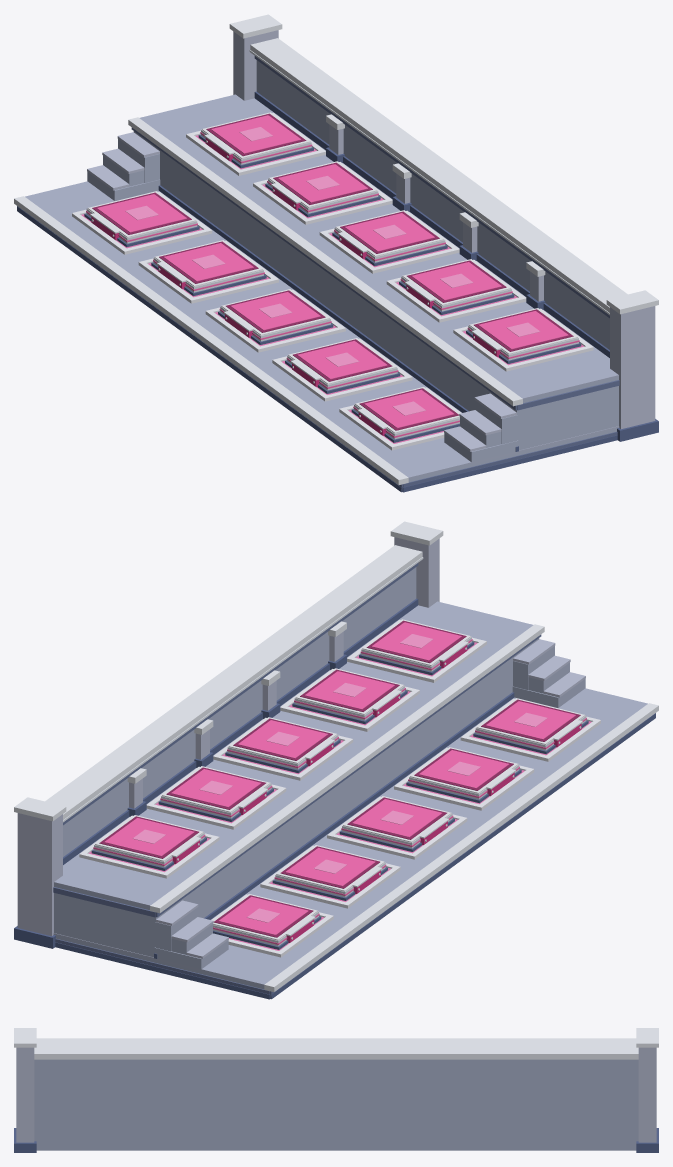
File: GunStand_OneMesh.obj
3 views of the same model, one above another, from view 1: azimuth 30°, elevation 25°; view 2: azimuth 150°, elevation 25°; view 3: azimuth 270°, elevation 25° (orthographic). The views are drawn at different scales.
Visible parts, largest first — view 1: GunStand; view 2: GunStand; view 3: GunStand.
Boxes of the visible parts, <box> form: GunStand: <box>14,14,658,492</box>; GunStand: <box>14,521,658,999</box>; GunStand: <box>14,1028,658,1152</box>.
Bounding box in the file's own units: 16.9 × 8.3 × 44.4.
1 material, 1 textured.
